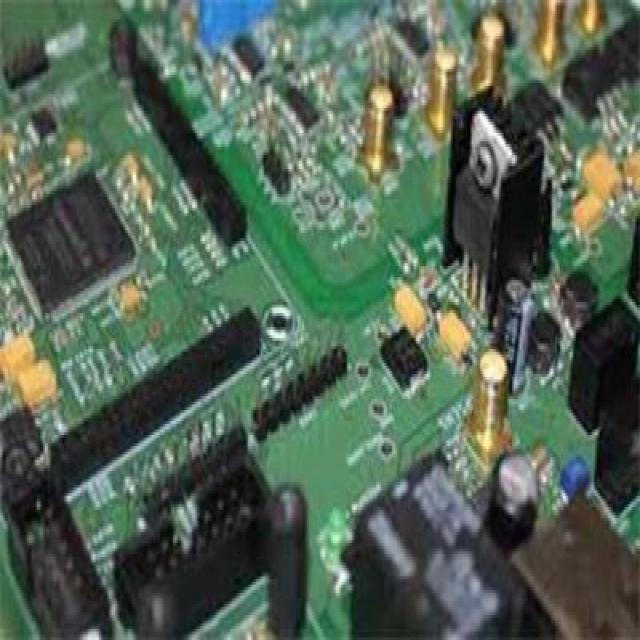pcb: (0, 0, 638, 637), (442, 80, 555, 324), (566, 208, 638, 543), (5, 164, 136, 322), (509, 488, 638, 637), (378, 321, 430, 399)
